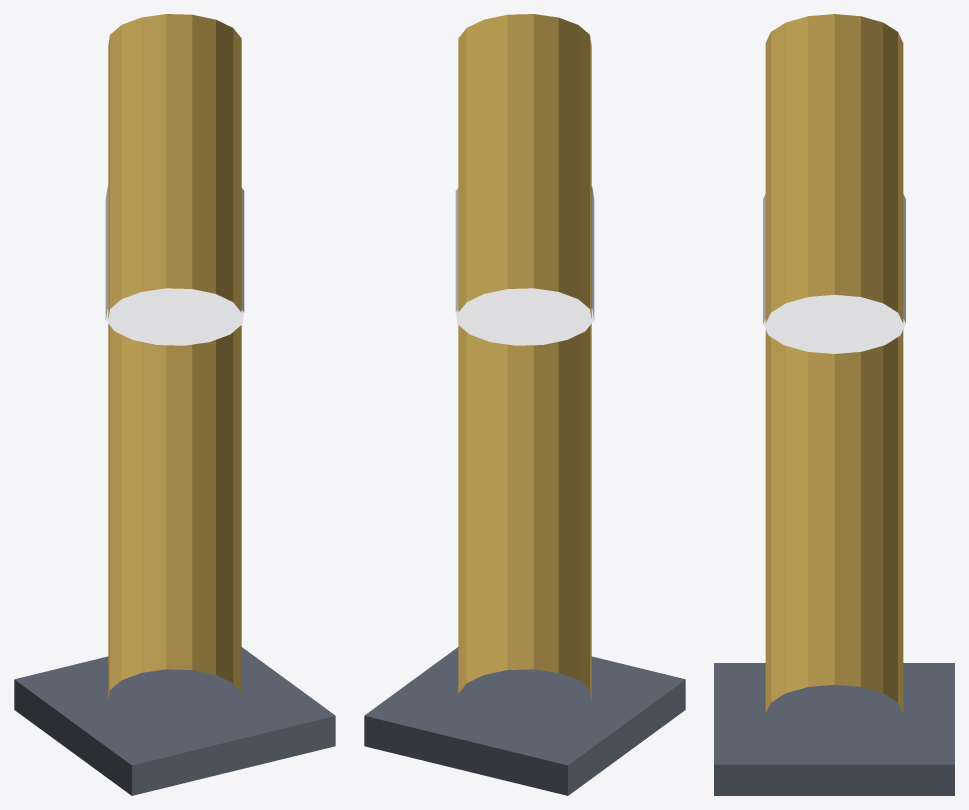
File: traffic_bollard.glb
The picture shows the model from 3 angles, left to right: view 1: azimuth 30°, elevation 25°; view 2: azimuth 150°, elevation 25°; view 3: azimuth 270°, elevation 25°; orthographic projection. The views are drawn at different scales.
Bounding box in the file's own units: 0.28 × 0.9 × 0.28.
